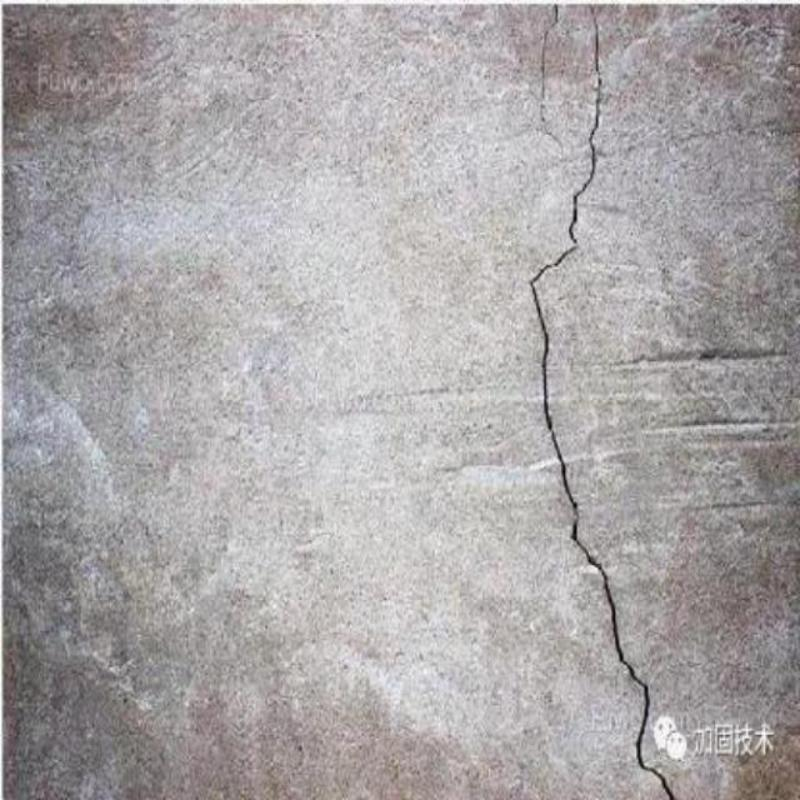crack: (528, 19, 675, 798), (539, 4, 560, 139)
